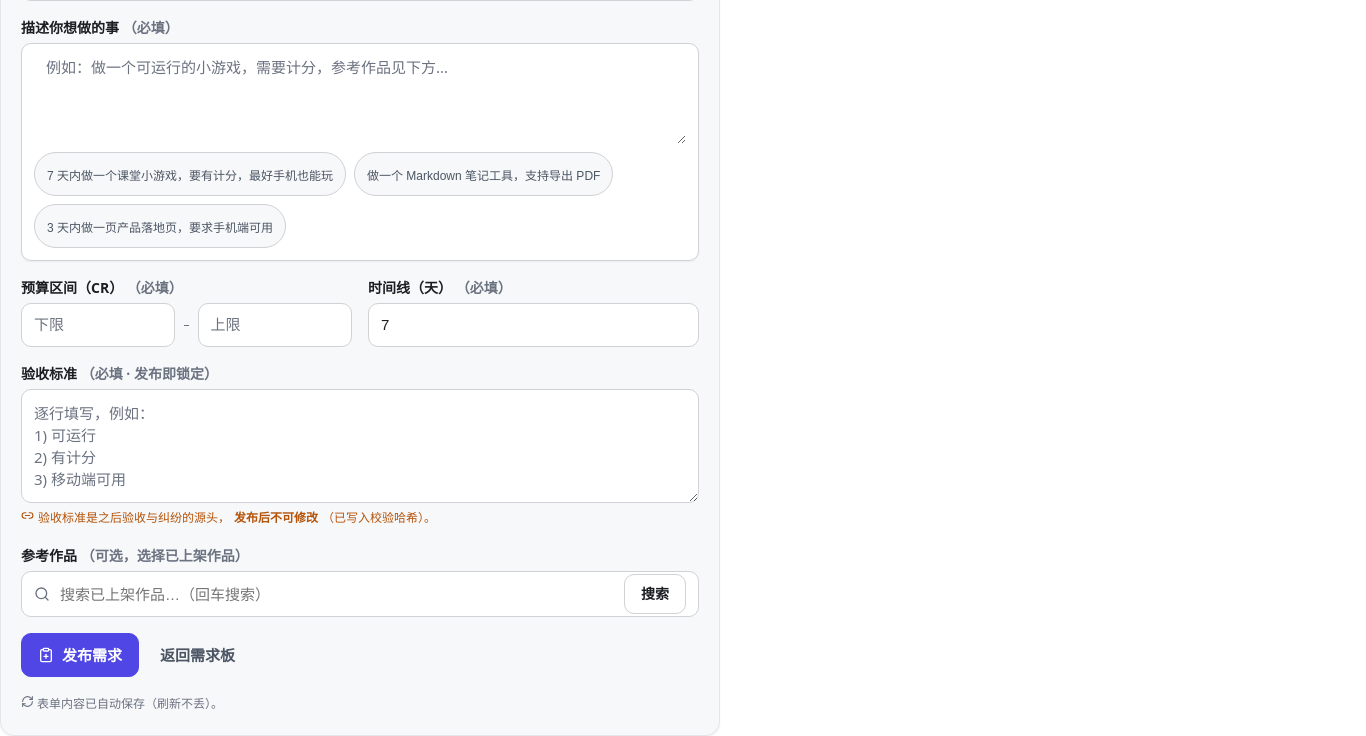
it: CommissionNewPage（发布需求） › 表单校验：缺字段提交 → 就地错误（图标+文字）
(page scrolled)
Step 1. Click the button "发布需求" → (80, 655), box [21, 633, 139, 677]
(page scrolled)
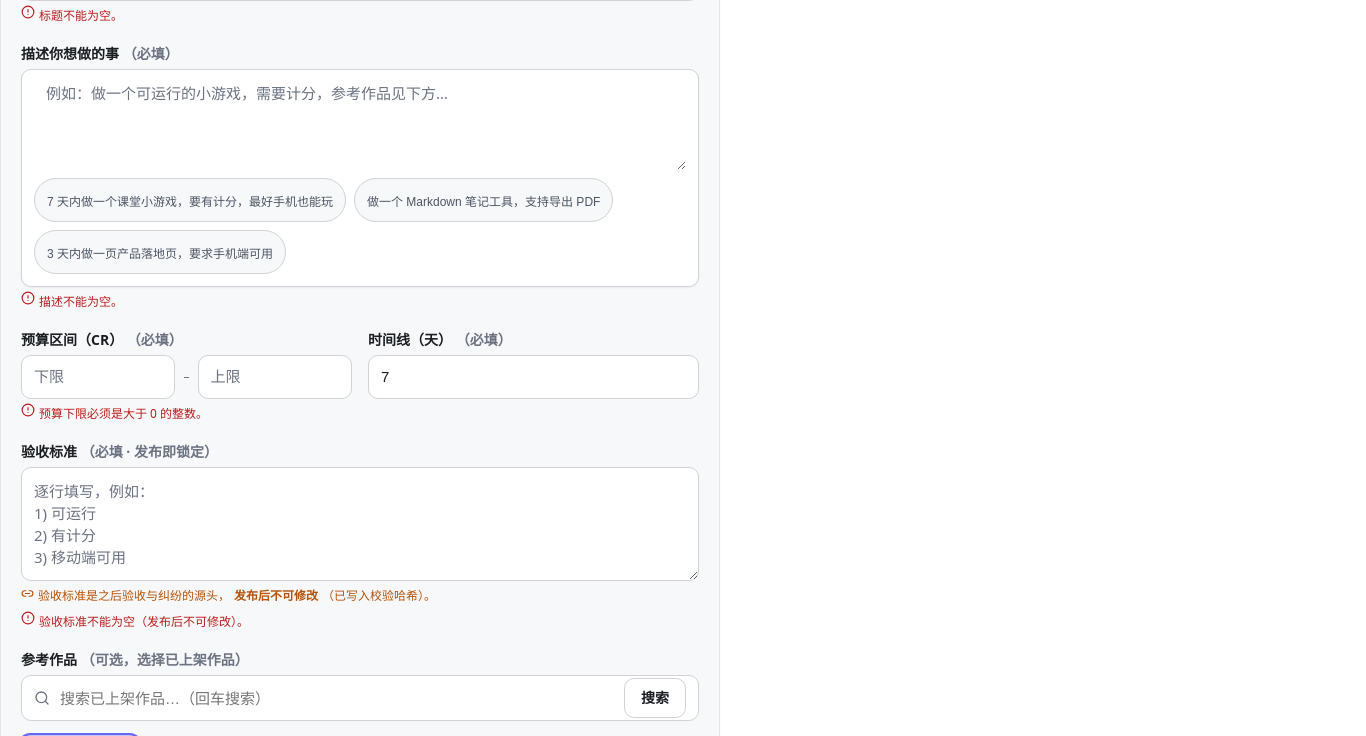
Now the text "标题不能为空。" is shown, box [21, 5, 123, 24]
Now the text "验收标准不能为空（发布后不可修改）。" is shown, box [21, 611, 249, 630]
